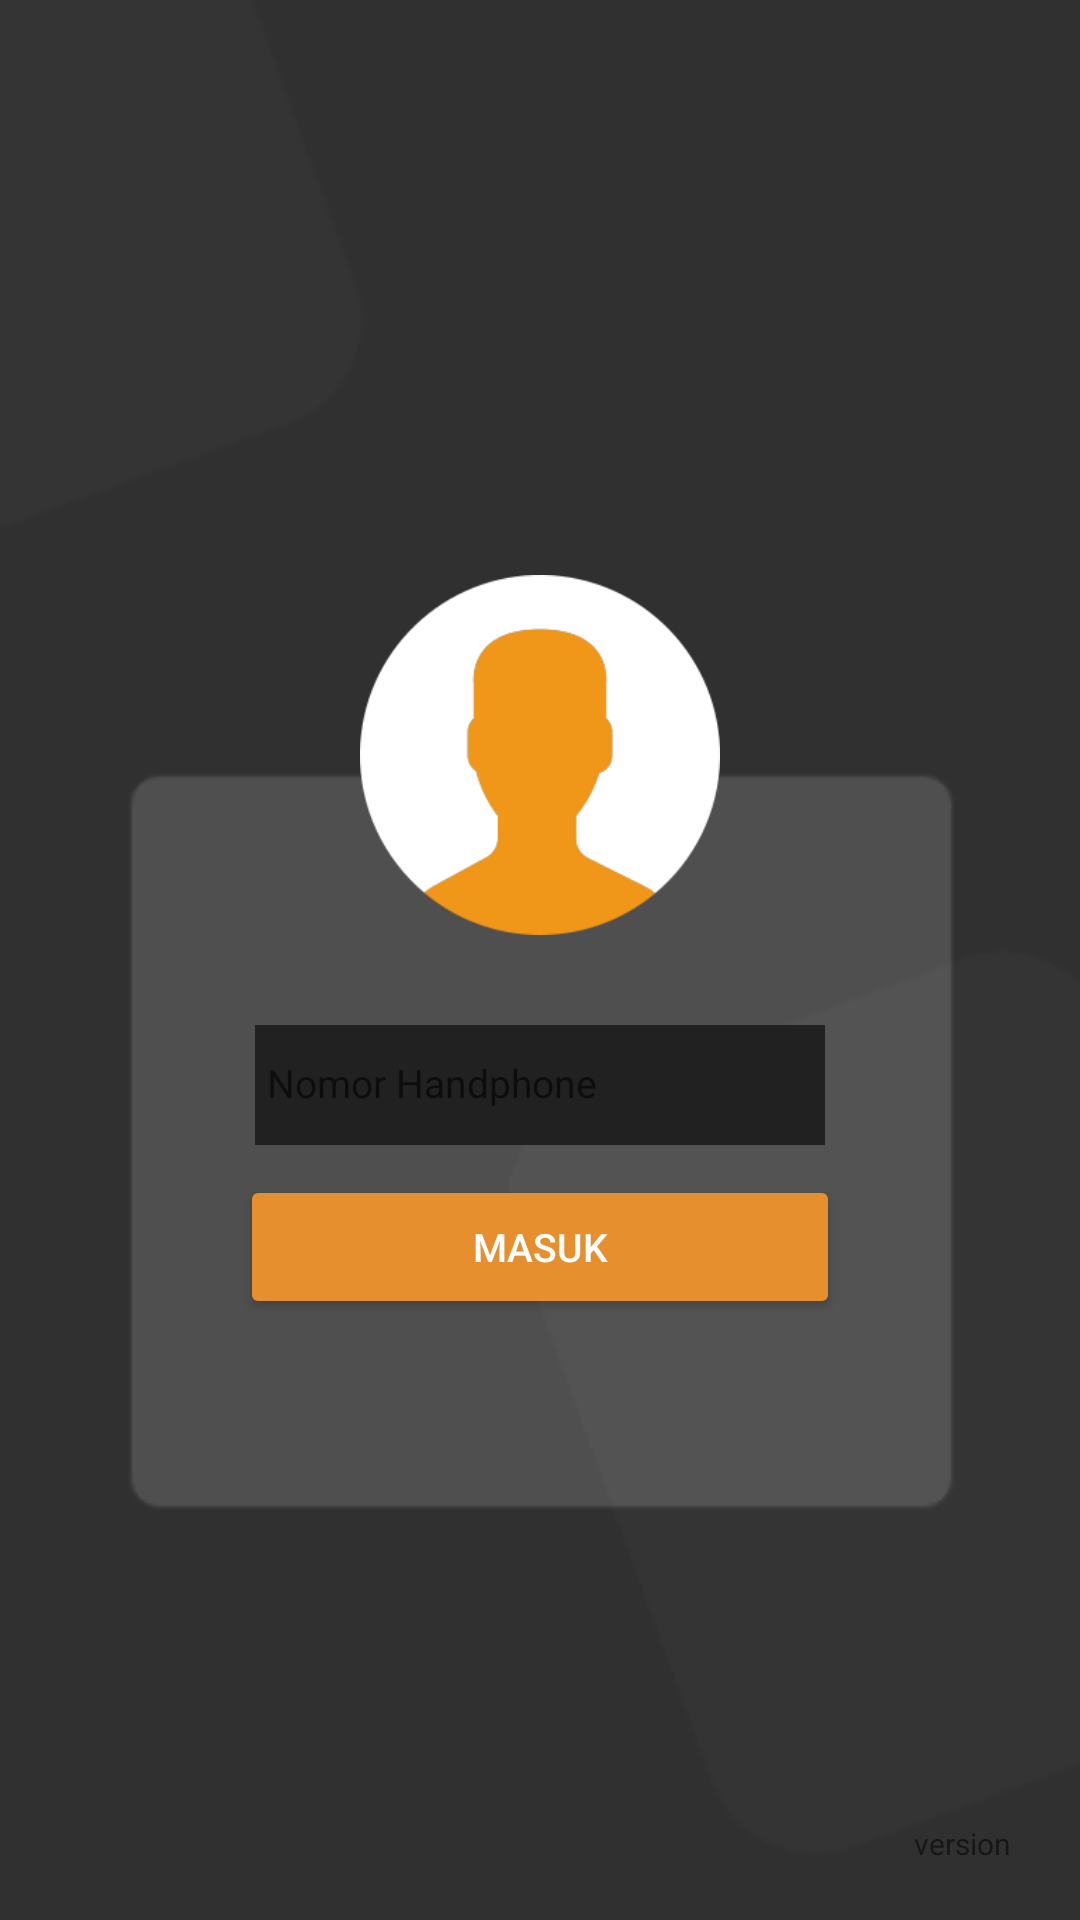

Icons on this 1080px×1920px Android screen, each with the point to tap as (x=x, y=y):
user: (x=540, y=755)
